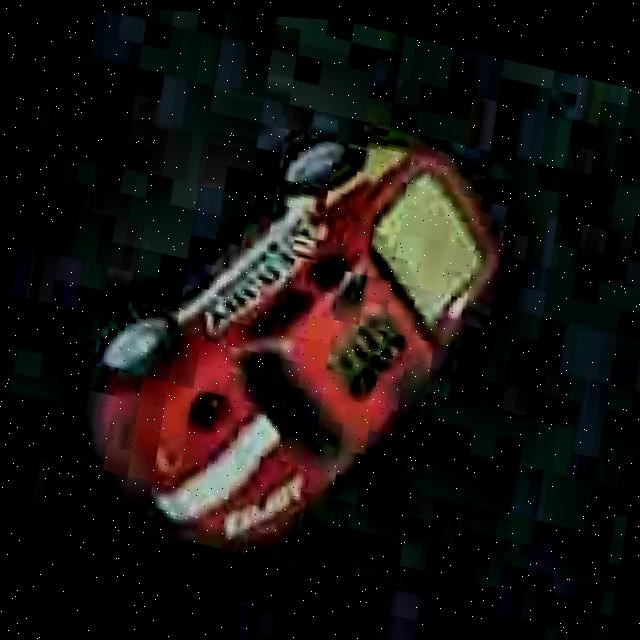car: (45, 68, 532, 617)
